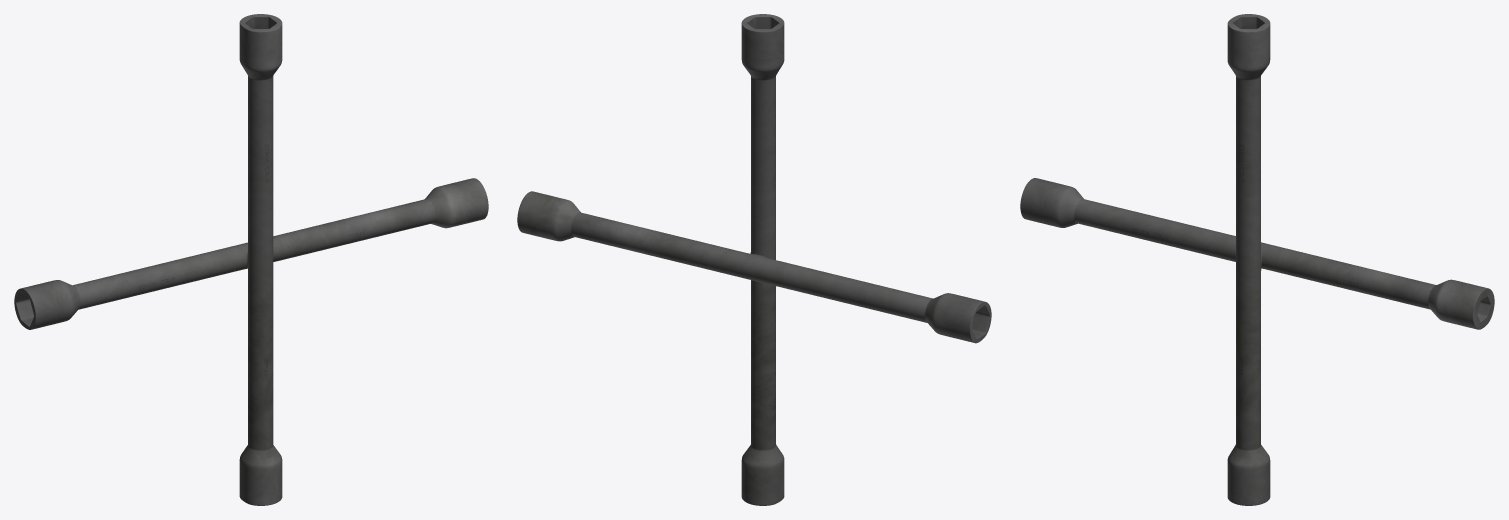
File: 13479_4-way_Lug_Wrench_v1_l3.obj
The picture shows the model from 3 angles, left to right: view 1: azimuth 30°, elevation 25°; view 2: azimuth 150°, elevation 25°; view 3: azimuth 330°, elevation 25°; orthographic projection.
Visible parts, largest first — view 1: 13479_4_way_Lug_Wrench; view 2: 13479_4_way_Lug_Wrench; view 3: 13479_4_way_Lug_Wrench.
Part boxes in pixels (bbox=[...]): 13479_4_way_Lug_Wrench: bbox=[14, 14, 488, 505]; 13479_4_way_Lug_Wrench: bbox=[517, 14, 991, 505]; 13479_4_way_Lug_Wrench: bbox=[1020, 14, 1494, 505].
Bounding box in the file's own units: 13.11 × 13.11 × 1.53.
Materials: 1 (1 with a texture image).
